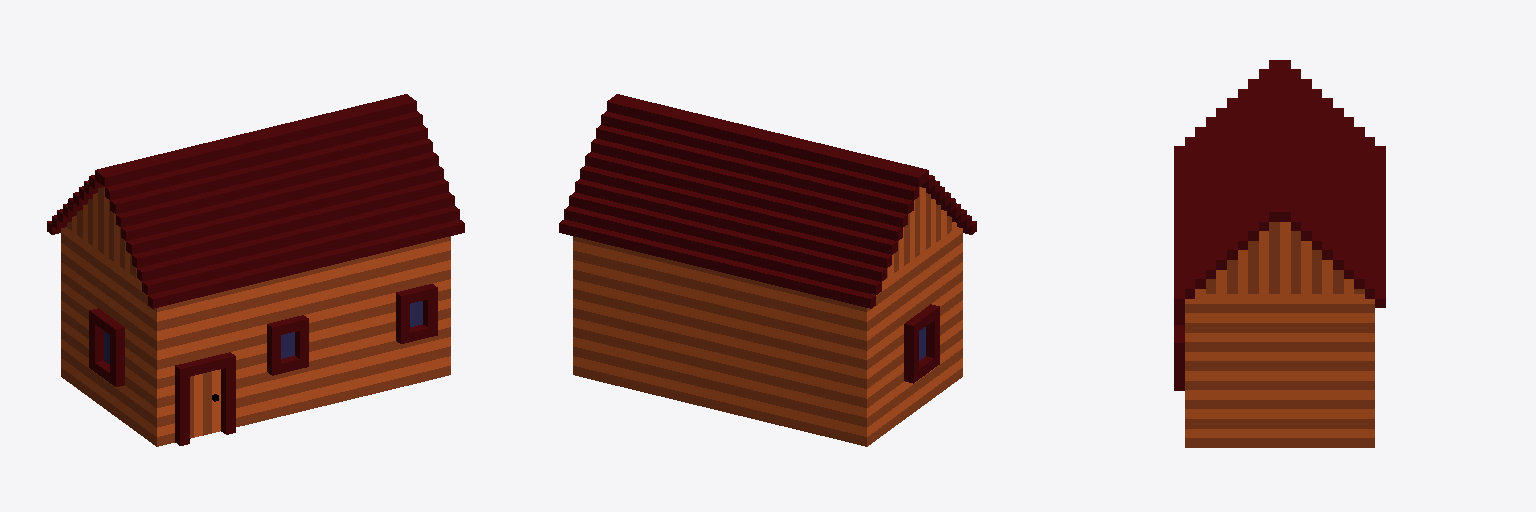
3 renders of one model, left to right at view 1: azimuth 30°, elevation 25°; view 2: azimuth 150°, elevation 25°; view 3: azimuth 270°, elevation 25°, orthographic.
Visible parts, largest first — view 1: Cabana1; view 2: Cabana1; view 3: Cabana1.
Boxes of the visible parts, x1,y1,x2,y2 form: Cabana1: [47, 94, 464, 446]; Cabana1: [559, 94, 976, 446]; Cabana1: [1174, 60, 1385, 447].
Bounding box in the file's own units: 68 × 50 × 40.
Materials: 1 (1 with a texture image).